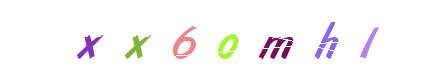6: (153, 0, 233, 80)
H: (236, 0, 316, 80)
L: (283, 0, 363, 80)
M: (182, 0, 262, 80)
O: (181, 0, 261, 80)
X: (75, 0, 155, 80), (96, 0, 176, 80)
